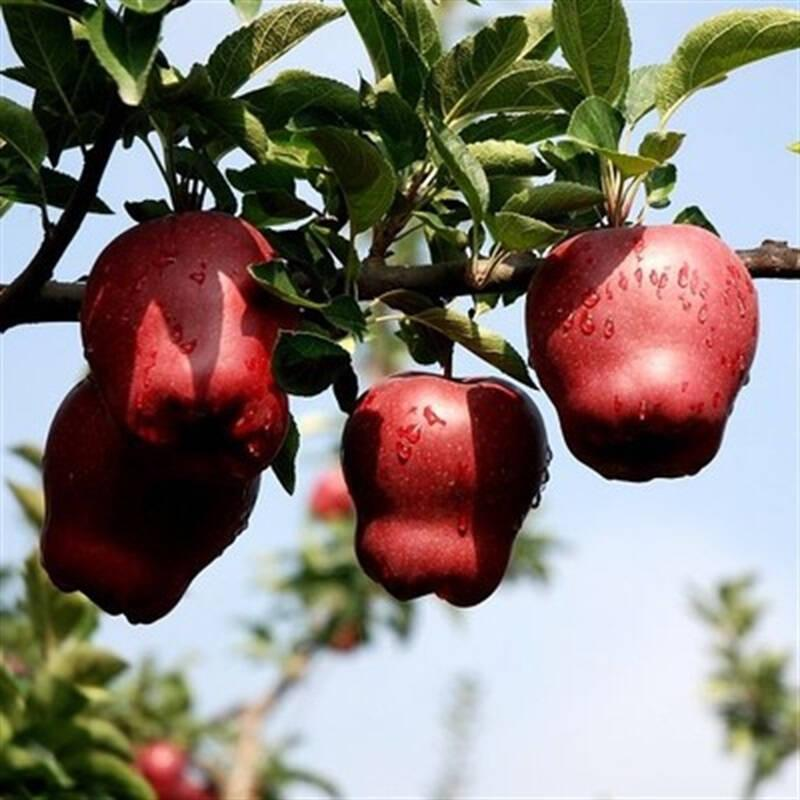apple: (521, 219, 760, 484), (80, 216, 284, 451), (344, 378, 548, 613)
